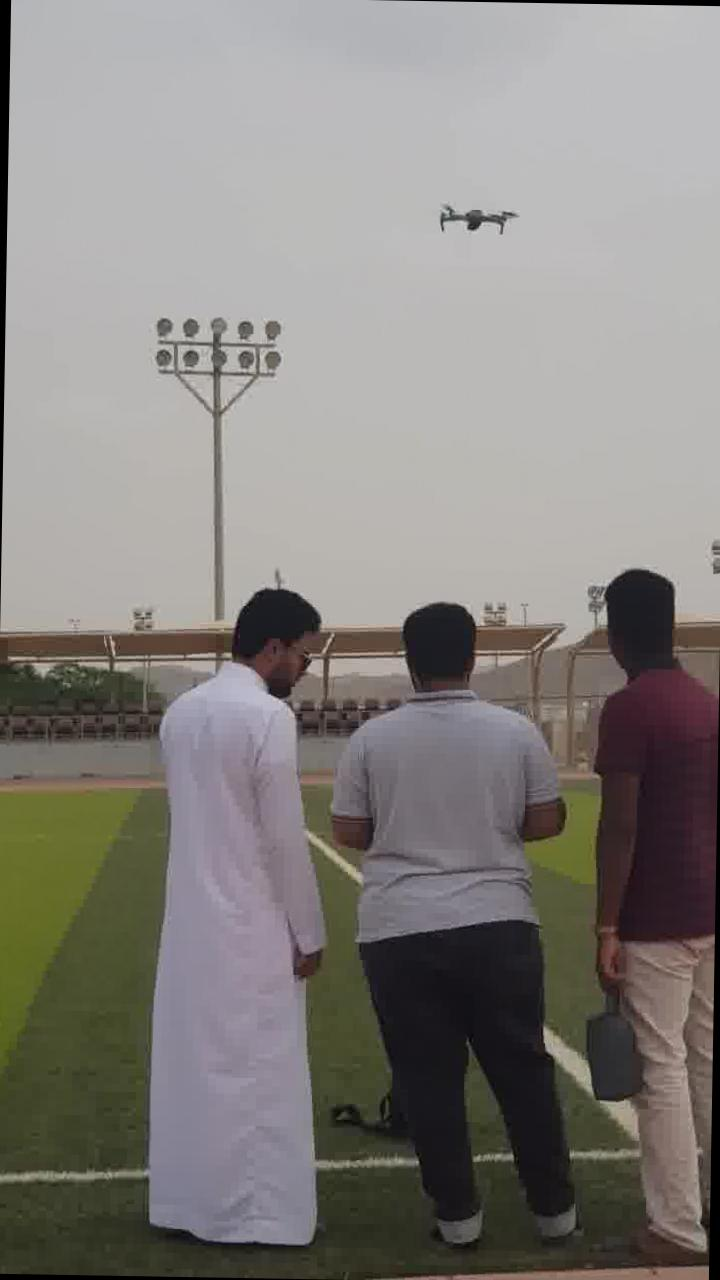drone: (427, 184, 523, 243)
